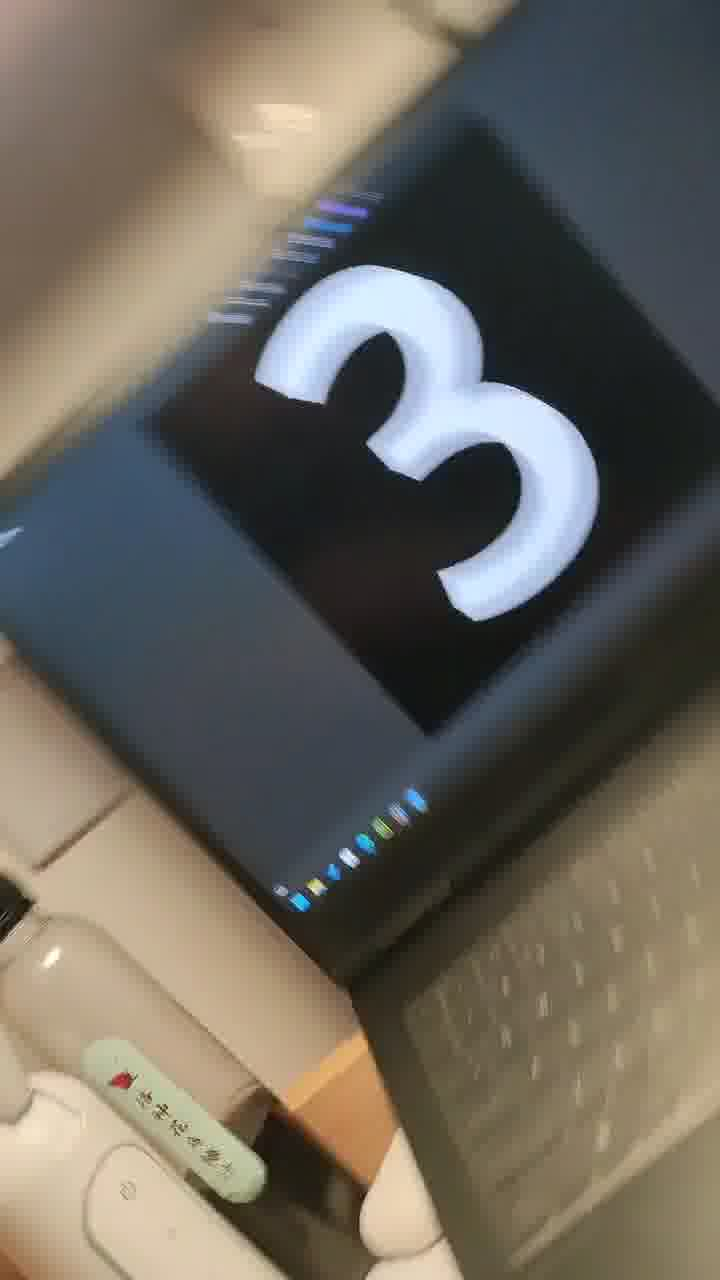three: (228, 233, 620, 649)
